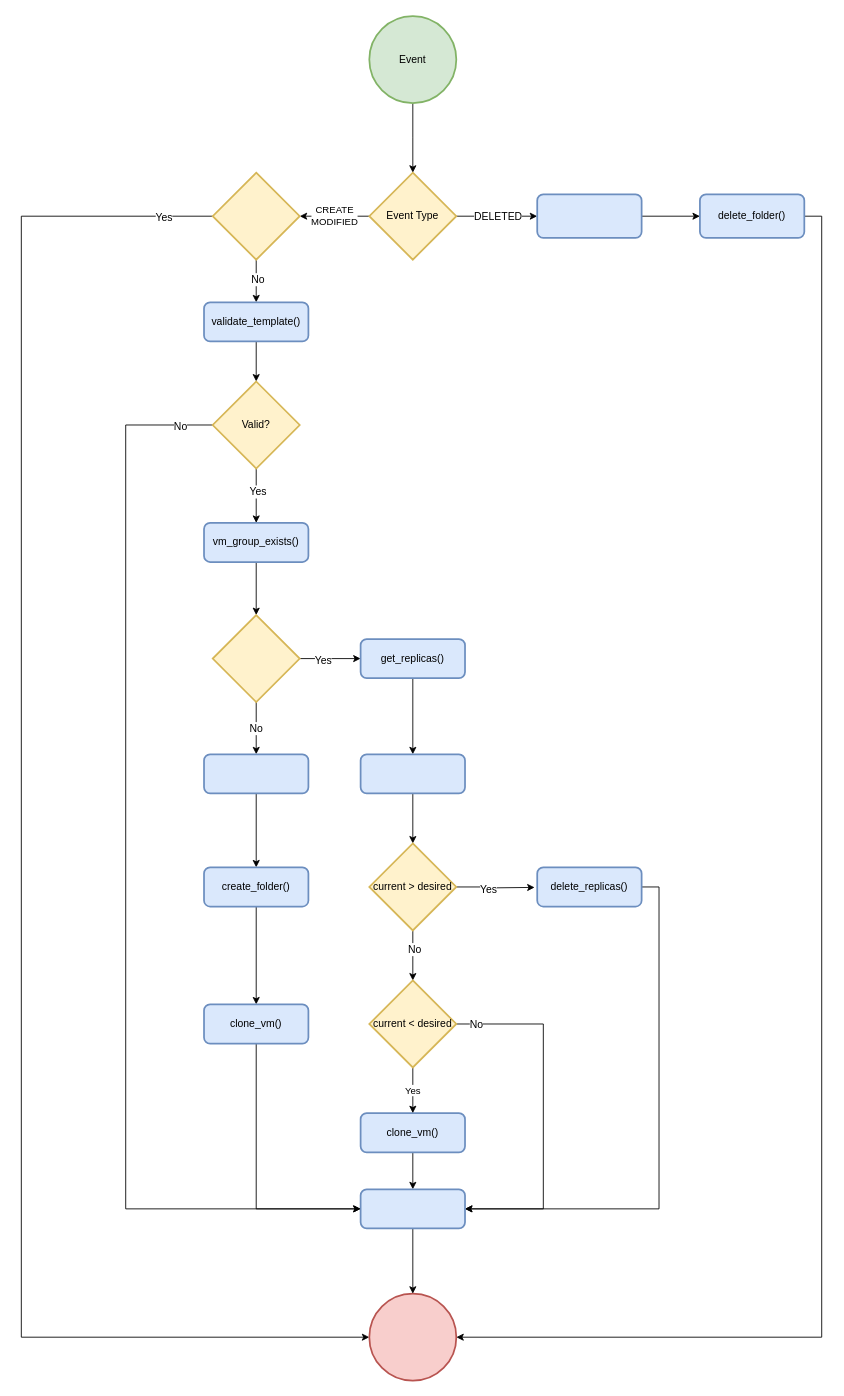
The diagram is 844 pixels wide and 1396 high, and some of its shapes have lost their labels. The centre of each missing label's shape, as x and y in pixels:
create_vm_group(): point 256,773
delete_vm_group(): point 589,215
Exists?: point 255,658
Phase "ERROR"?: point 255,215
return: point 412,1336
set_status(): point 412,1208
sync_replica_count(): point 412,773
